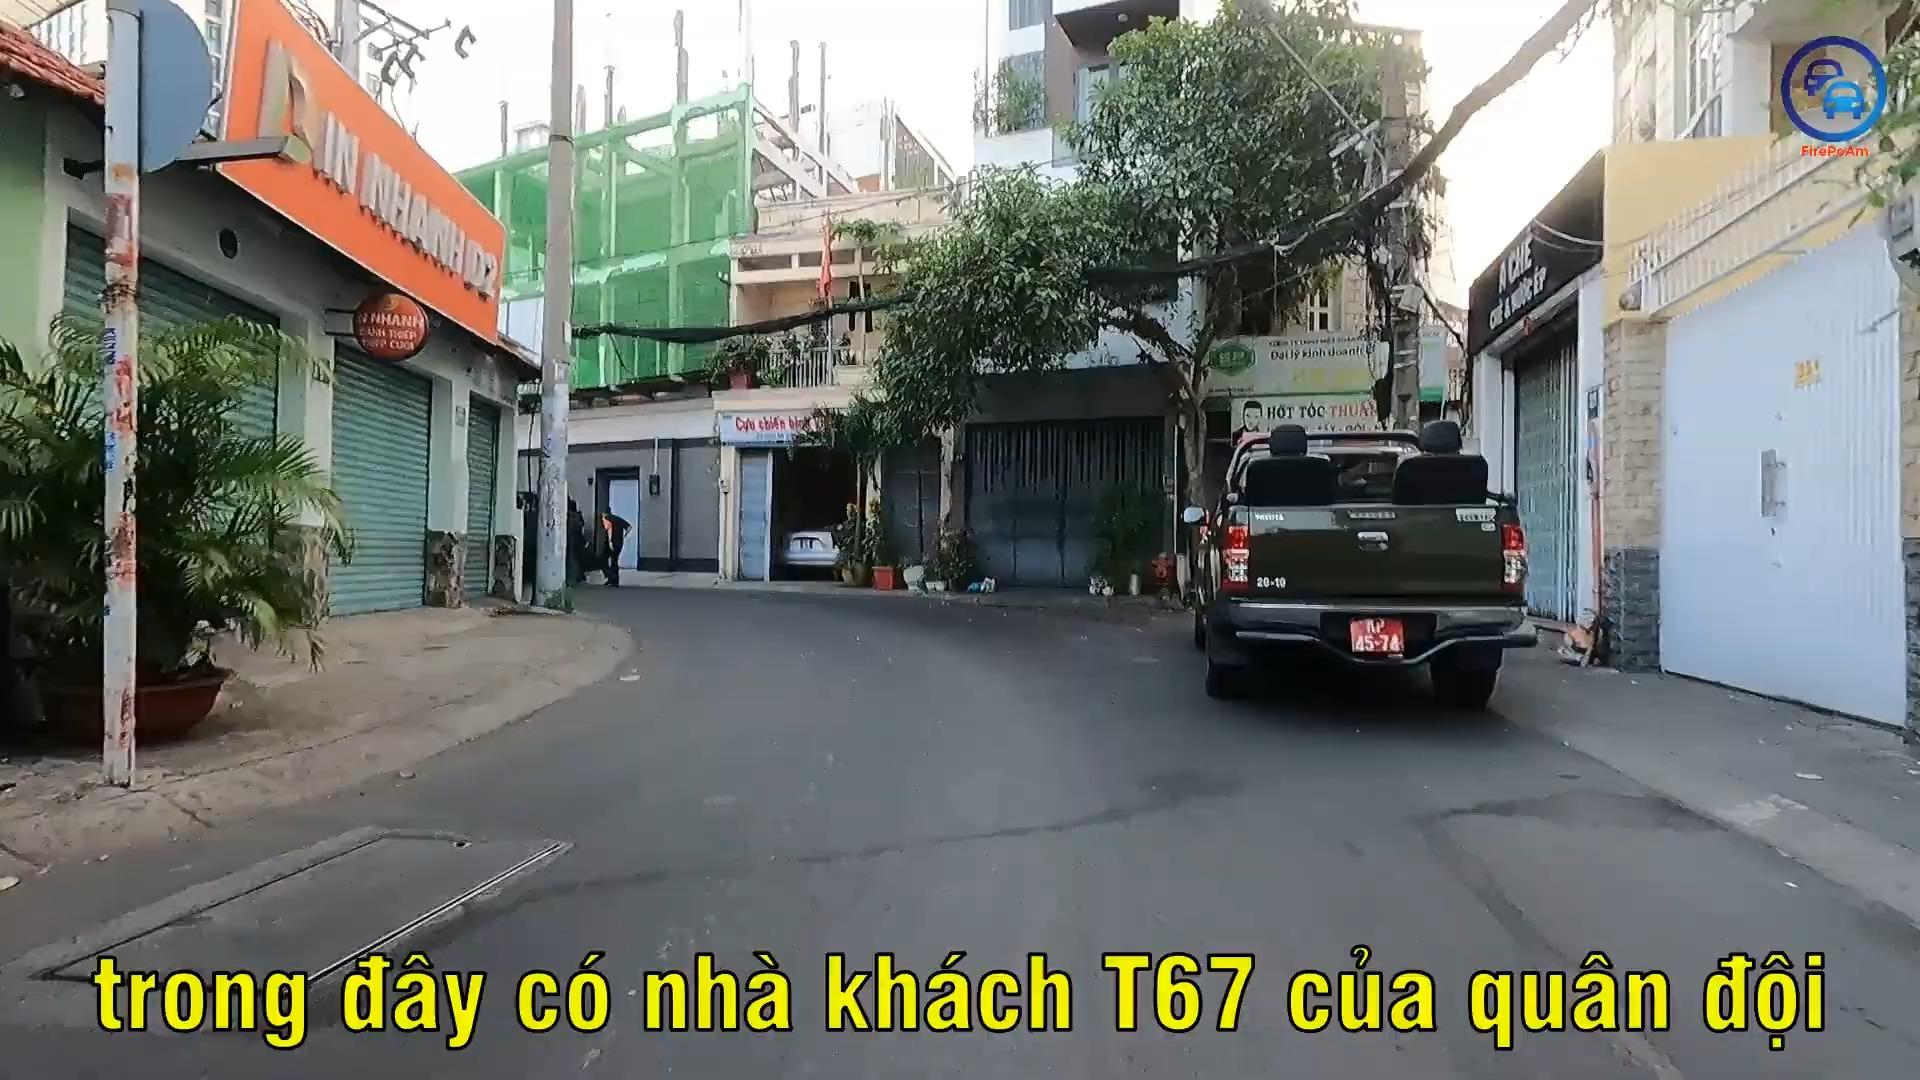bien_so: (1348, 615, 1406, 654)
